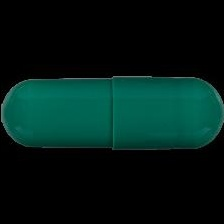49884-831: (0, 0, 224, 224)
